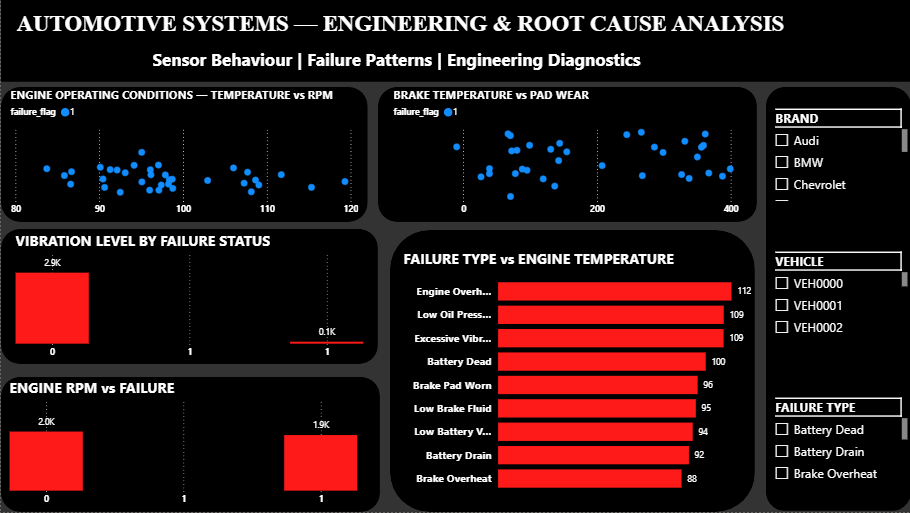

This screenshot's page, from the dashboard's own definition file:
{"tool":"powerbi","page":{"name":"ENGINEERING & ROOT CAUSE ANALYSIS ","canvas":[1280,720],"ordinal":1},"visuals":[{"type":"shape","box":[0,322.1,530.3,189.9],"z":0},{"type":"shape","box":[0,122.5,515.8,189.8],"z":1000},{"type":"shape","box":[0,0,1280,122.4],"z":2000},{"type":"textbox","box":[17.3,10.4,1242,51.8],"z":3000},{"type":"textbox","box":[208,62,908.7,49.2],"z":4000},{"type":"scatterChart","title":"ENGINE OPERATING CONDITIONS — TEMPERATURE vs RPM","fields":{"Series":["synthetic_telemetry_data.failure_flag"],"X":["synthetic_telemetry_data.engine_temp_c"],"Y":["synthetic_telemetry_data.engine_rpm"]},"box":[8.6,122.5,499.3,189.9],"z":5000},{"type":"clusteredColumnChart","title":"VIBRATION LEVEL BY FAILURE STATUS","fields":{"Category":["synthetic_telemetry_data.failure_flag"],"Y":["Sum(synthetic_telemetry_data.vibration_level)"]},"box":[15.5,323.5,499.3,189.9],"z":6000},{"type":"shape","box":[1076,122.4,204,596.4],"z":7000},{"type":"slicer","title":"BRAND","fields":{"Values":["synthetic_telemetry_data.brand"]},"box":[1076,147.7,204,140],"z":8000},{"type":"slicer","title":"BRAND","fields":{"Values":["synthetic_telemetry_data.vehicle_id"]},"box":[1076,348.8,204,136],"z":9000},{"type":"slicer","title":"BRAND","fields":{"Values":["synthetic_telemetry_data.failure_type"]},"box":[1076,554.2,204,136],"z":10000},{"type":"shape","box":[547.2,323.5,513.4,396.7],"z":11000},{"type":"shape","box":[529.6,122.5,533,189.8],"z":12000},{"type":"shape","box":[0,530.3,533,189.8],"z":13000},{"type":"scatterChart","title":"BRAKE TEMPERATURE vs PAD WEAR","fields":{"X":["synthetic_telemetry_data.brake_temp_c"],"Series":["synthetic_telemetry_data.failure_flag"],"Y":["synthetic_telemetry_data.brake_pad_wear_mm"]},"box":[546.8,122.5,499.3,189.9],"z":15000},{"type":"clusteredColumnChart","title":"ENGINE RPM vs FAILURE","fields":{"Category":["synthetic_telemetry_data.failure_flag"],"Y":["Avg(synthetic_telemetry_data.engine_rpm)"]},"box":[7,530.3,499.3,189.9],"z":16000},{"type":"clusteredBarChart","title":"FAILURE TYPE vs ENGINE TEMPERATURE","fields":{"Y":["Avg(synthetic_telemetry_data.engine_temp_c)"],"Category":["synthetic_telemetry_data.failure_type"]},"box":[561.2,348.8,499.3,355.9],"z":17000}]}

Visuals, with their boxes in screenshot pixels (x1, y1, x2, y2), scaled from the page's 1280x720 canvas onto the 910x513 screenshot:
shape: 0:229:377:365
shape: 0:87:367:223
shape: 0:0:909:87
textbox: 12:7:895:44
textbox: 148:44:794:79
"ENGINE OPERATING CONDITIONS — TEMPERATURE vs RPM" scatterChart: 6:87:361:223
"VIBRATION LEVEL BY FAILURE STATUS" clusteredColumnChart: 11:230:366:366
shape: 765:87:909:512
"BRAND" slicer: 765:105:909:205
"BRAND" slicer: 765:249:909:345
"BRAND" slicer: 765:395:909:492
shape: 389:230:754:512
shape: 377:87:755:223
shape: 0:378:379:512
"BRAKE TEMPERATURE vs PAD WEAR" scatterChart: 389:87:744:223
"ENGINE RPM vs FAILURE" clusteredColumnChart: 5:378:360:512
"FAILURE TYPE vs ENGINE TEMPERATURE" clusteredBarChart: 399:249:754:502
